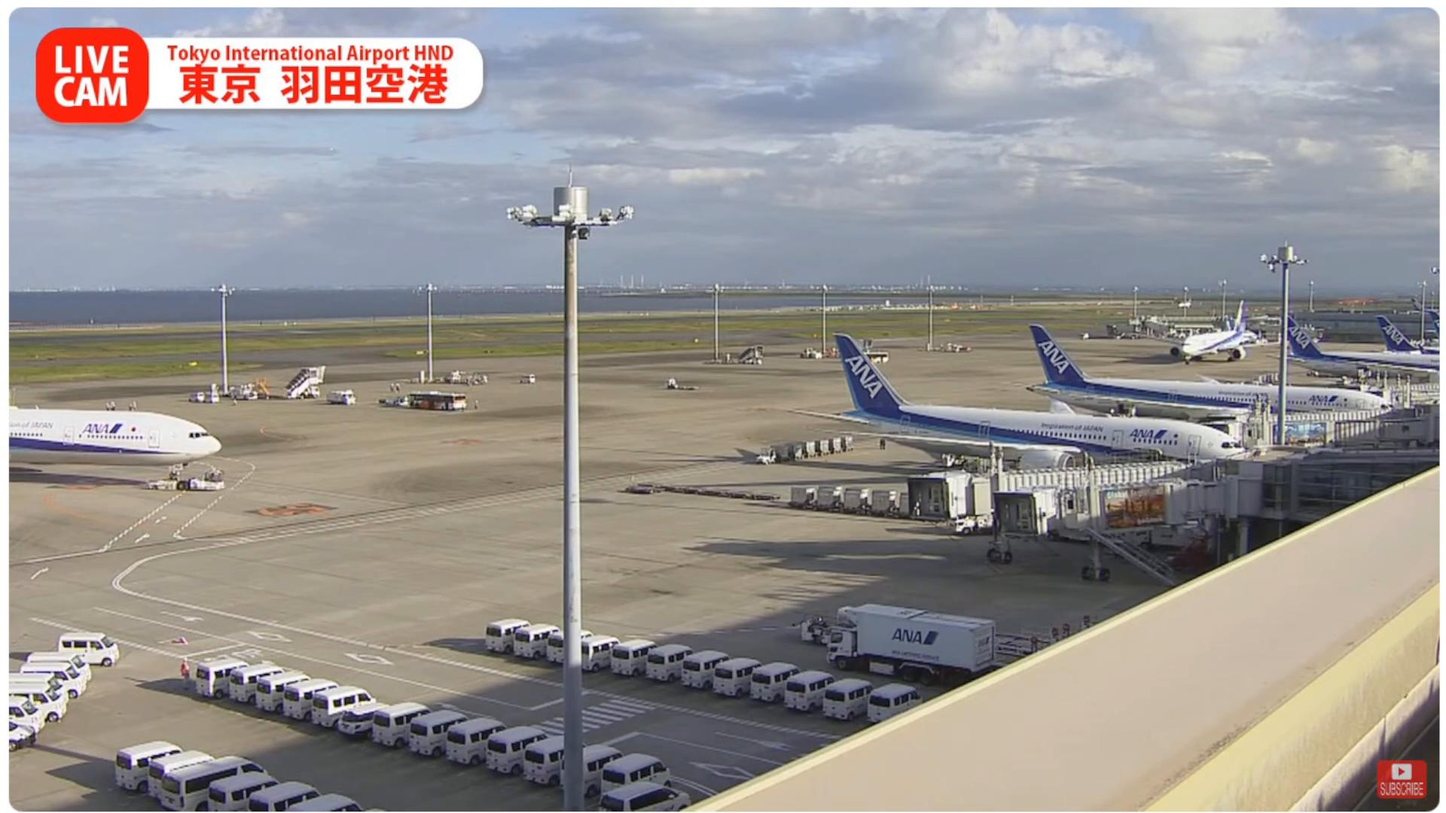Aerobridge: (904, 438, 1216, 520), (991, 479, 1262, 538)
Airplane: (10, 405, 227, 480)
Catering: (823, 603, 999, 690)
Tow Tug: (145, 469, 227, 493)
Window: (1288, 451, 1440, 524)
